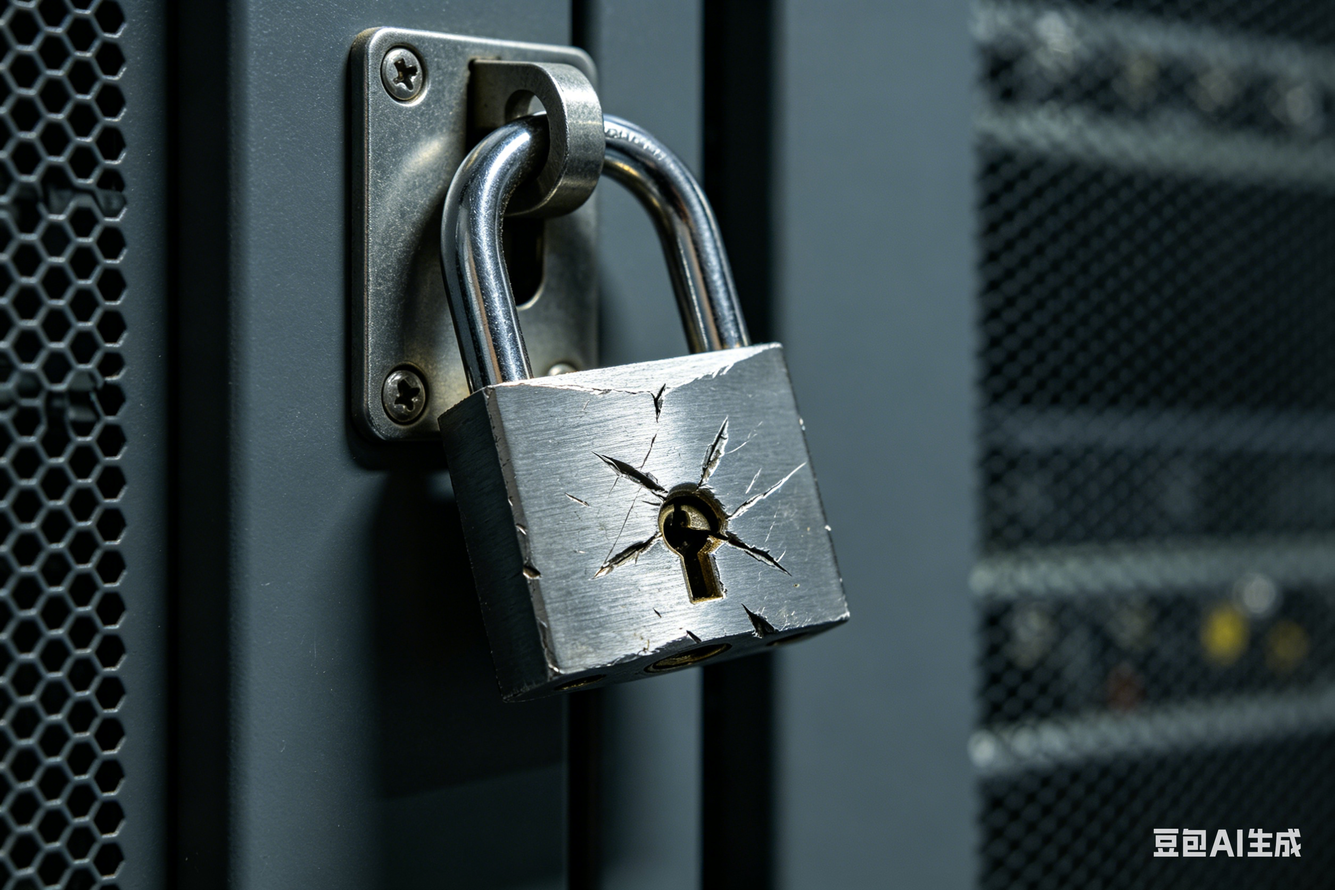BadLock: (537, 376, 773, 635)
